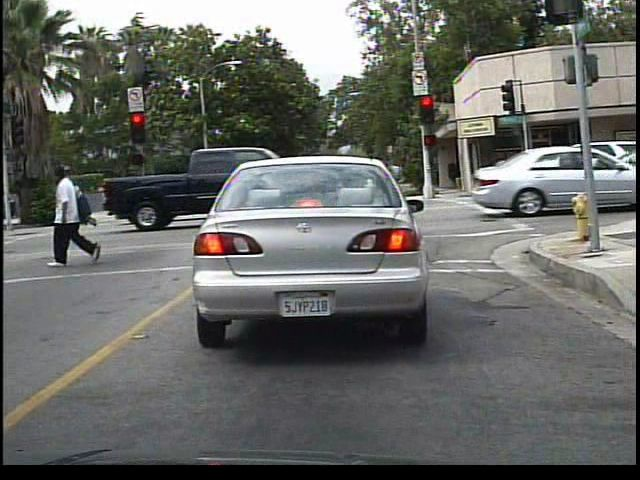person: (50, 161, 102, 267)
